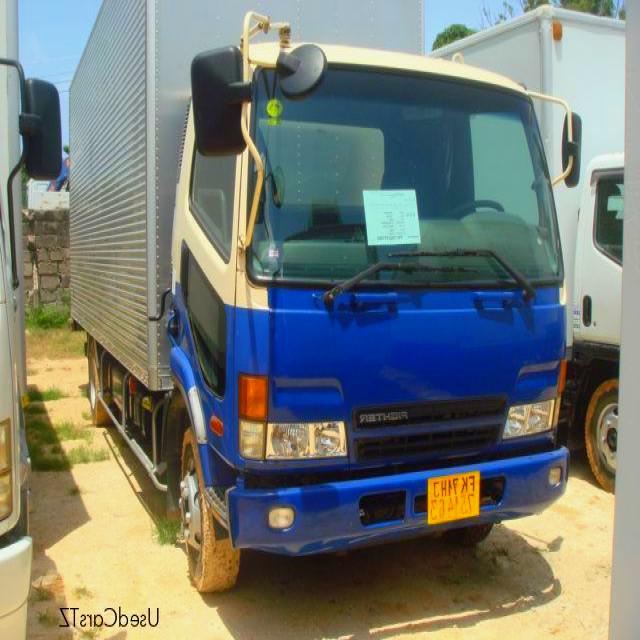truck: (68, 0, 582, 592)
